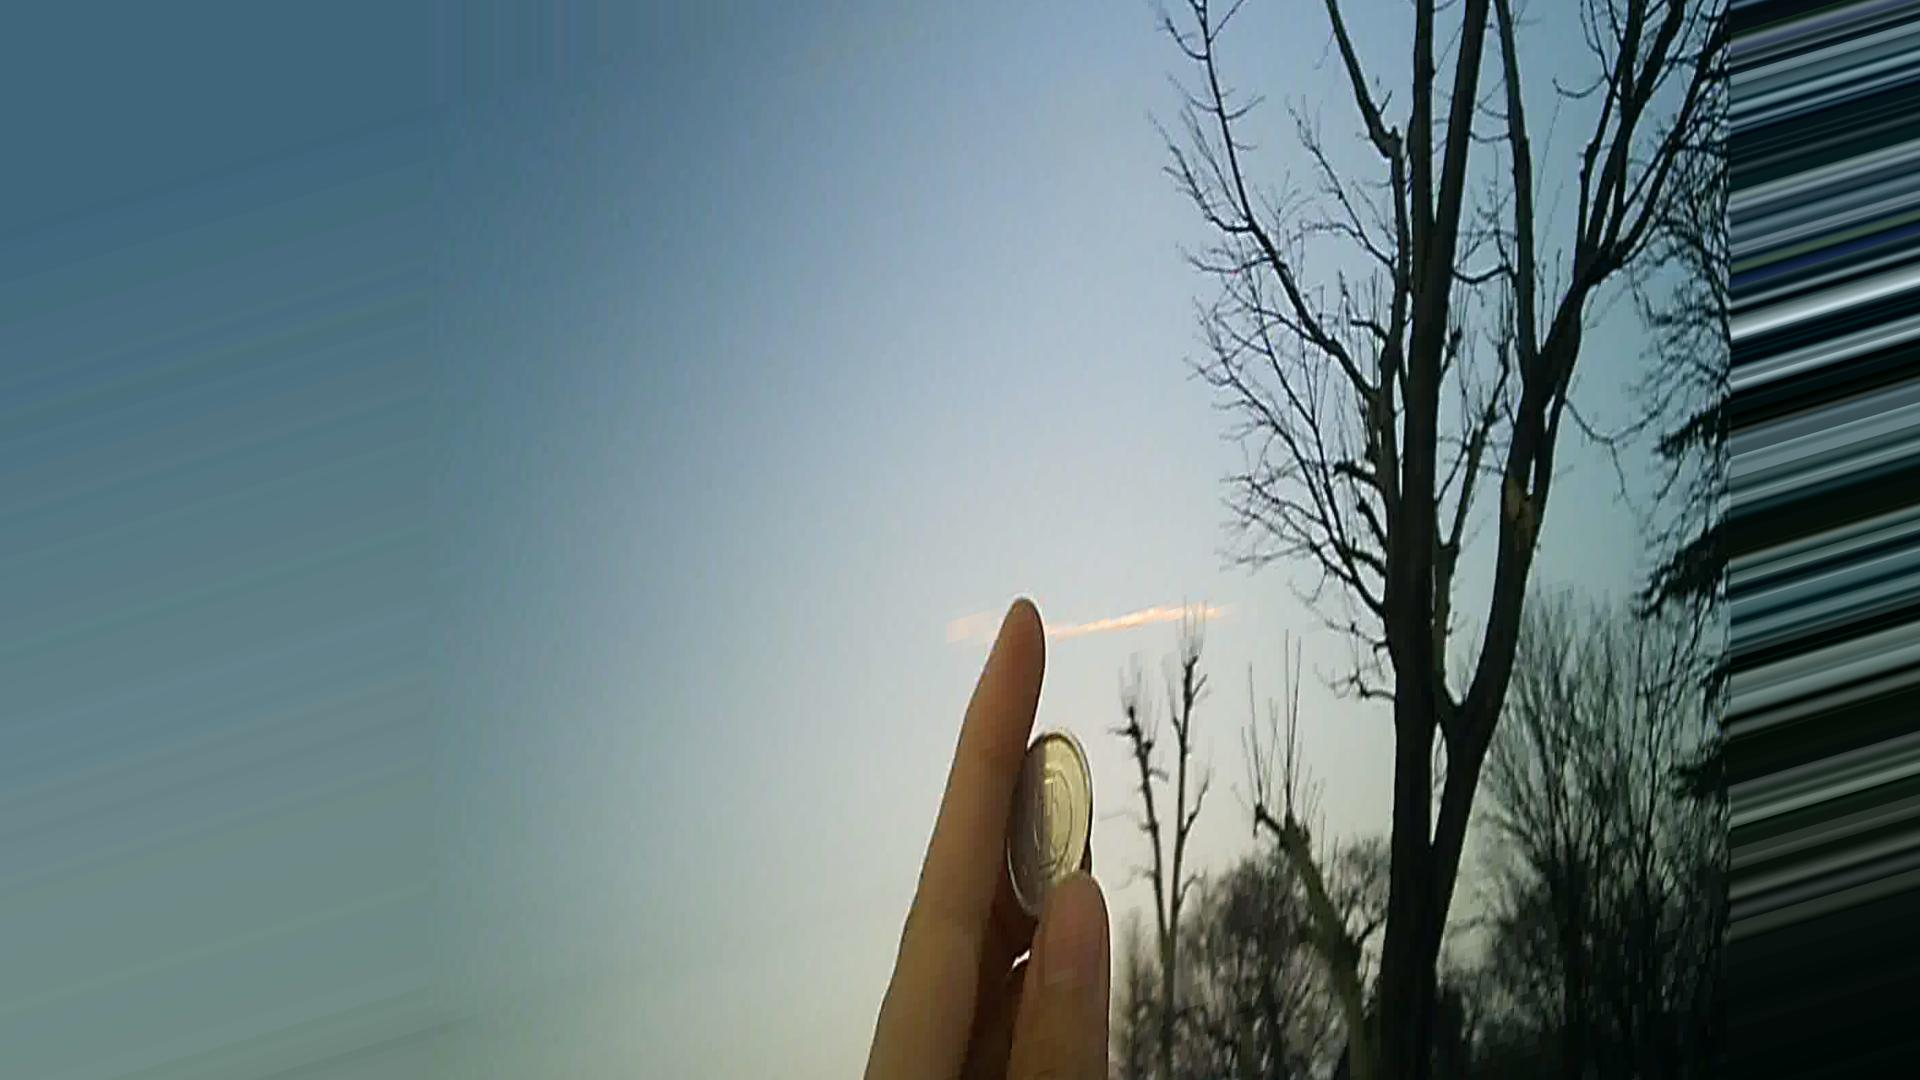1 Yen: (992, 723, 1113, 909)
